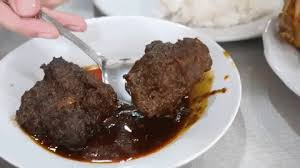rendang: (11, 32, 247, 162)
